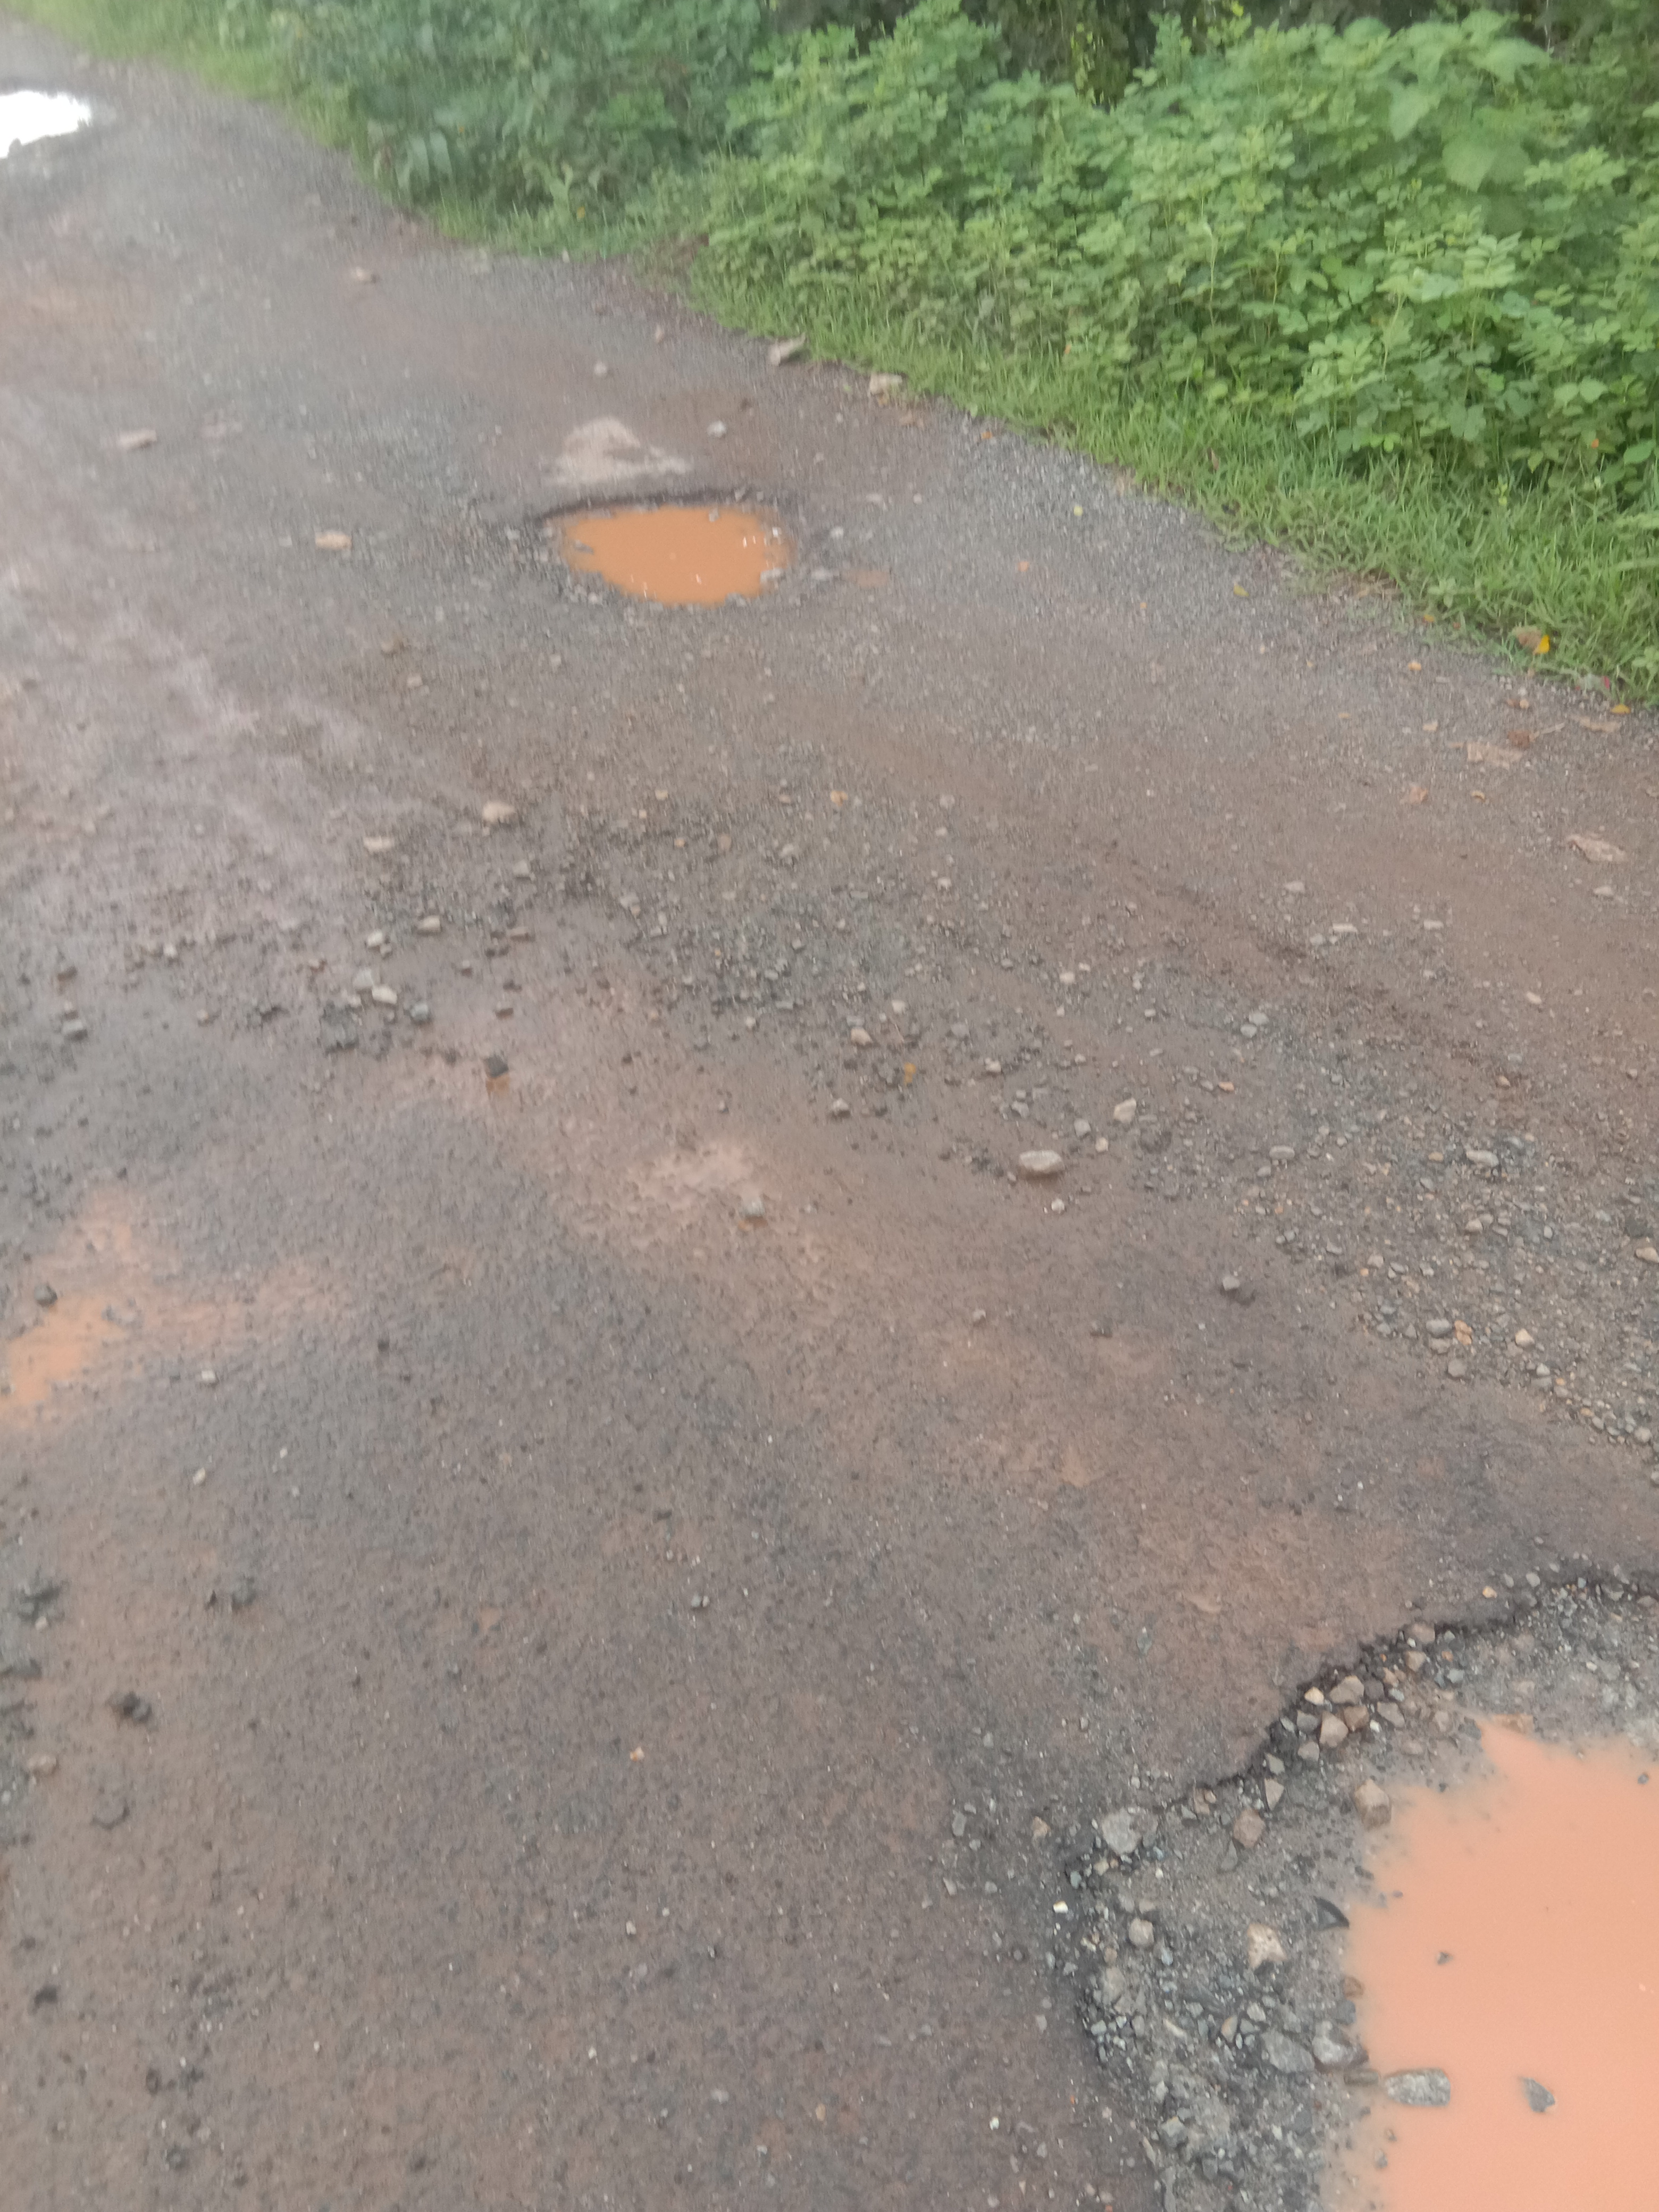potholes: (1058, 1588, 1659, 2212), (516, 469, 824, 620), (0, 75, 108, 185)
